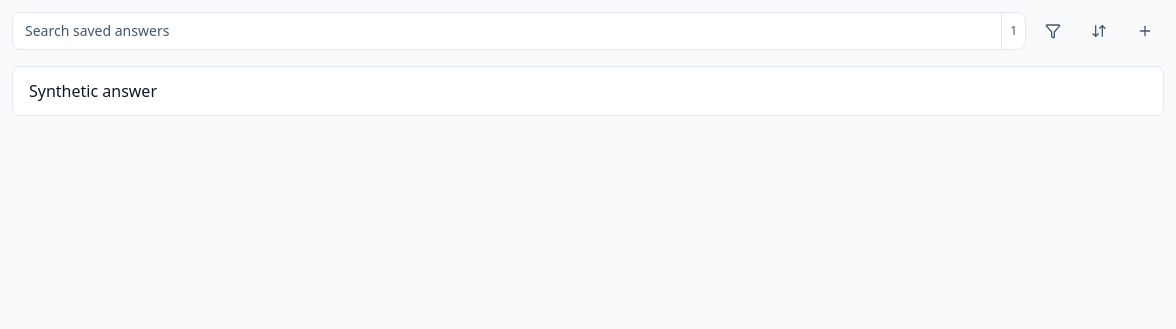
Saved answers presentation › clears search, status and type together while preserving order
Step 1. Type "Synthetic search" into the search field labelled "Search saved answers" → (507, 31), box [13, 13, 1001, 49]
Step 2. Click the button named "Order: Most recent" → (1099, 31), box [1080, 12, 1118, 50]
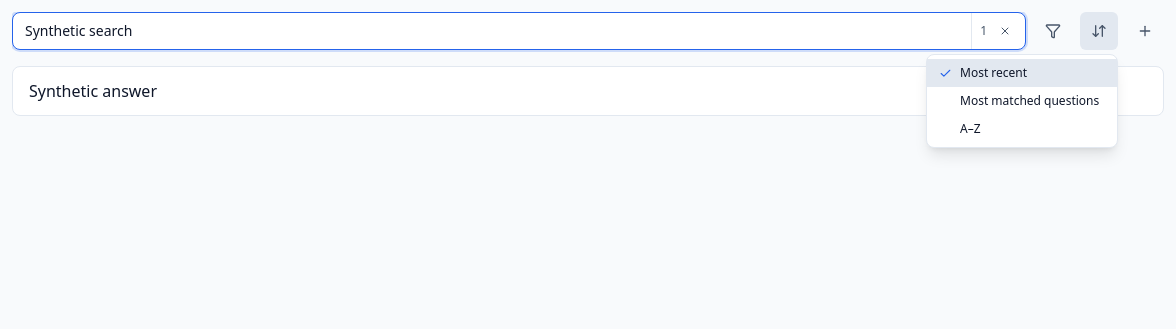
Step 3. Click the menu item "A–Z" → (1022, 129), box [927, 115, 1117, 143]
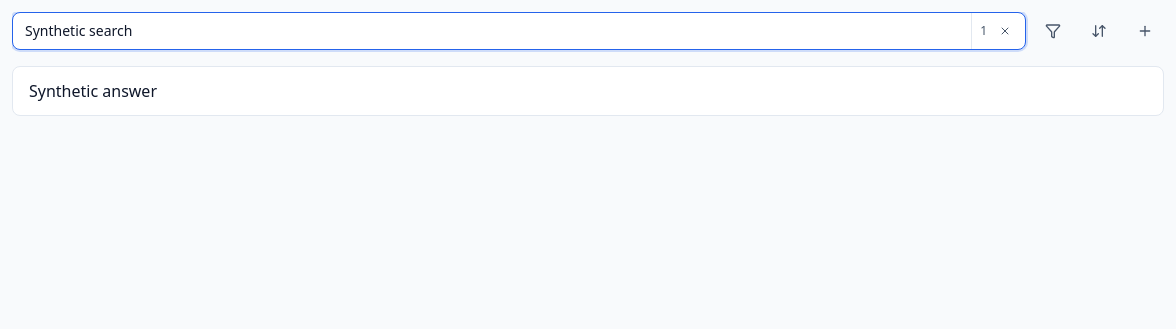
Step 4. Click the button named "Filters" → (1053, 31), box [1034, 12, 1072, 50]
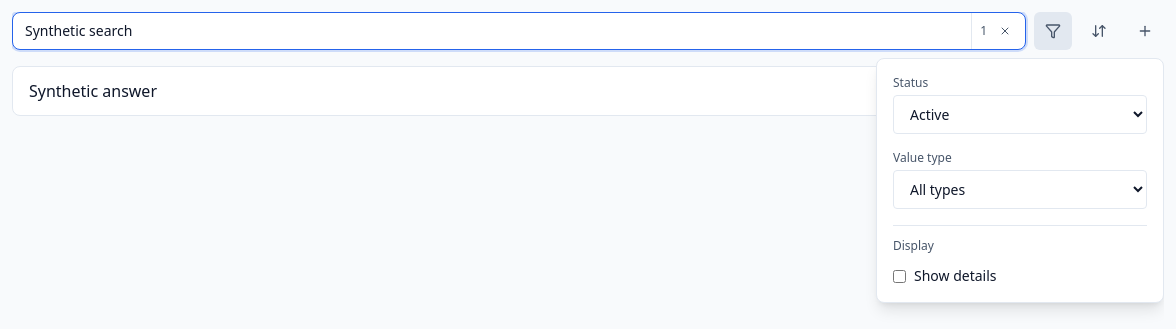
Step 5. Select "Paused" in the dropdown labelled "Status" → (1020, 114), box [893, 95, 1147, 134]
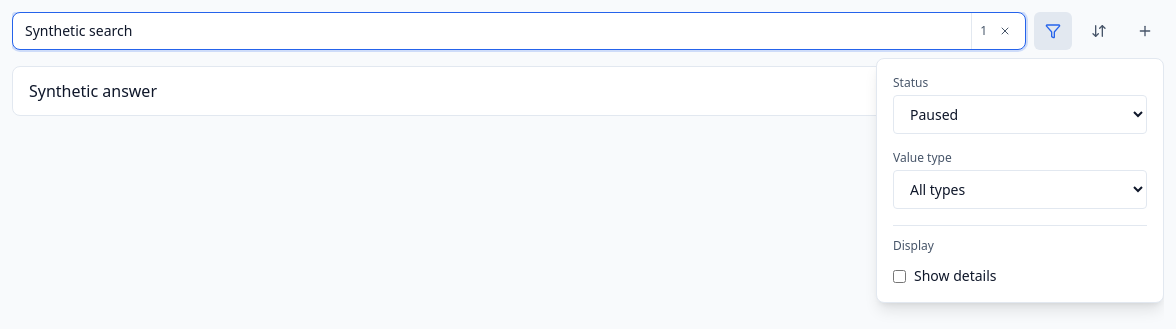
Step 6. Select "Yes / No" in the dropdown labelled "Value type" → (1020, 190), box [893, 170, 1147, 209]
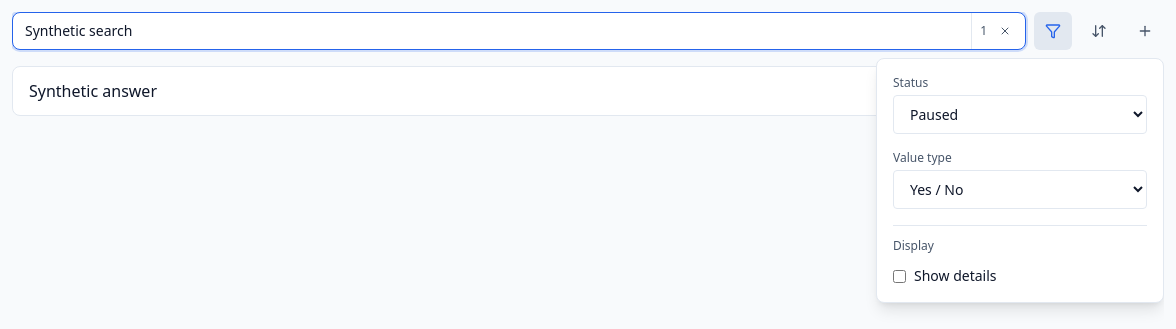
Step 7. Click the button named "Clear filters" → (1005, 31), box [993, 19, 1017, 43]
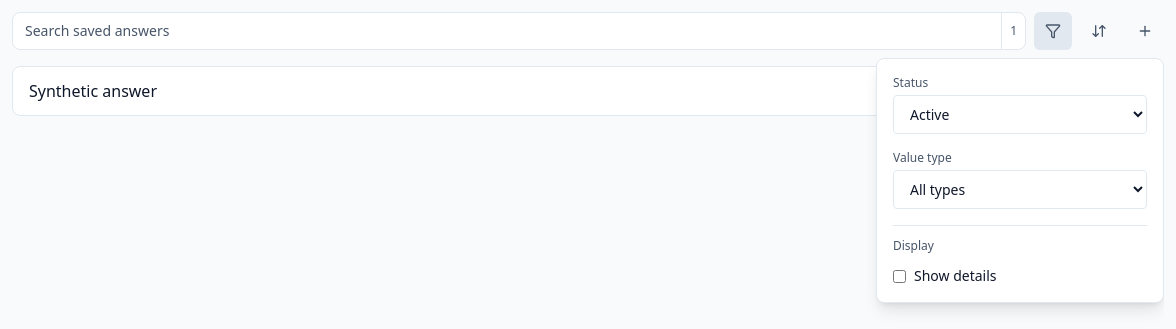
Expected: the button named "Filters" is shown, [1034, 12, 1072, 50]
Expected: the search field labelled "Search saved answers" is empty, [13, 13, 1001, 49]
